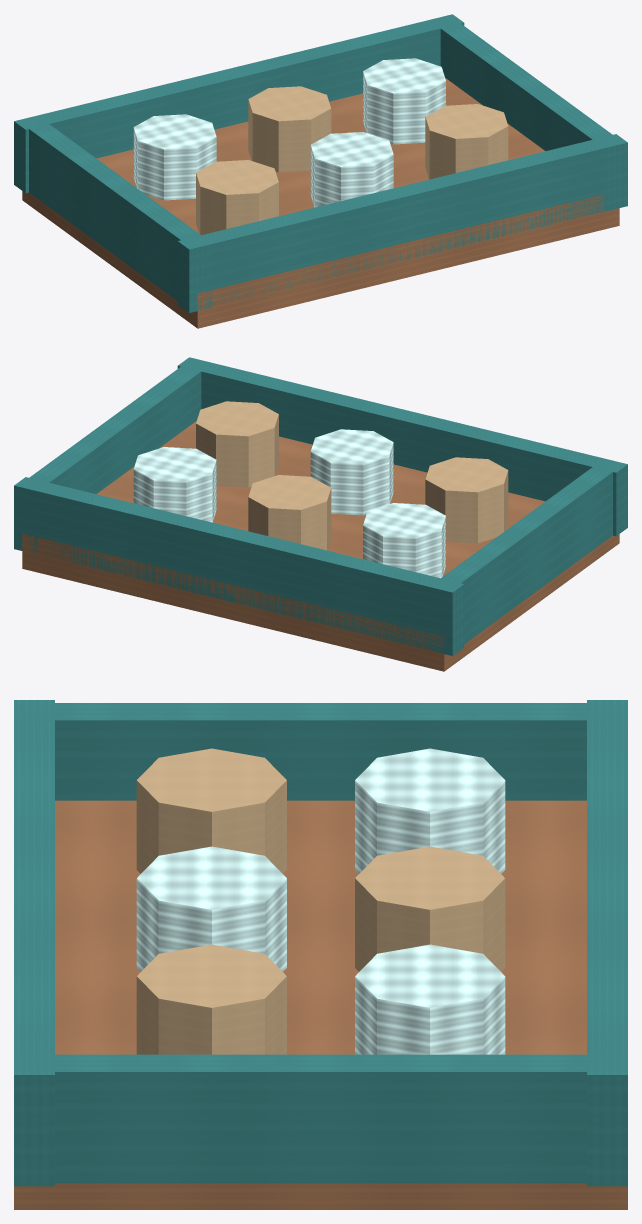
The model's file is atlas100-s091-a03.glb.
The picture shows the model from 3 angles, top to bottom: view 1: azimuth 30°, elevation 25°; view 2: azimuth 150°, elevation 25°; view 3: azimuth 270°, elevation 25°; orthographic projection. The views are drawn at different scales.
Visible parts, largest first — view 1: atlas100-s091-a03:part-002, atlas100-s091-a03:part-000, atlas100-s091-a03:part-001, atlas100-s091-a03:part-003, atlas100-s091-a03:part-004, atlas100-s091-a03:part-005, atlas100-s091-a03:part-006, atlas100-s091-a03:part-007, atlas100-s091-a03:part-009, atlas100-s091-a03:part-010, atlas100-s091-a03:part-008; view 2: atlas100-s091-a03:part-001, atlas100-s091-a03:part-000, atlas100-s091-a03:part-002, atlas100-s091-a03:part-003, atlas100-s091-a03:part-004, atlas100-s091-a03:part-008, atlas100-s091-a03:part-009, atlas100-s091-a03:part-010, atlas100-s091-a03:part-006, atlas100-s091-a03:part-007, atlas100-s091-a03:part-005; view 3: atlas100-s091-a03:part-000, atlas100-s091-a03:part-004, atlas100-s091-a03:part-003, atlas100-s091-a03:part-001, atlas100-s091-a03:part-002, atlas100-s091-a03:part-007, atlas100-s091-a03:part-010, atlas100-s091-a03:part-006, atlas100-s091-a03:part-009, atlas100-s091-a03:part-005, atlas100-s091-a03:part-008.
Boxes of the visible parts, x1,y1,x2,y2 form: atlas100-s091-a03:part-002: (177,134,627,312); atlas100-s091-a03:part-000: (22,78,619,328); atlas100-s091-a03:part-001: (14,14,464,193); atlas100-s091-a03:part-003: (29,124,212,311); atlas100-s091-a03:part-004: (430,15,624,211); atlas100-s091-a03:part-005: (133,114,216,200); atlas100-s091-a03:part-006: (248,86,331,172); atlas100-s091-a03:part-007: (363,58,445,144); atlas100-s091-a03:part-009: (310,132,393,207); atlas100-s091-a03:part-010: (425,104,508,179); atlas100-s091-a03:part-008: (196,160,278,235); atlas100-s091-a03:part-001: (14,477,464,655); atlas100-s091-a03:part-000: (22,421,619,671); atlas100-s091-a03:part-002: (177,357,627,536); atlas100-s091-a03:part-003: (429,467,612,654); atlas100-s091-a03:part-004: (17,358,211,554); atlas100-s091-a03:part-008: (425,457,508,543); atlas100-s091-a03:part-009: (310,429,393,515); atlas100-s091-a03:part-010: (196,401,278,487); atlas100-s091-a03:part-006: (248,475,331,550); atlas100-s091-a03:part-007: (133,447,216,522); atlas100-s091-a03:part-005: (363,503,445,578); atlas100-s091-a03:part-000: (14,800,627,1209); atlas100-s091-a03:part-004: (14,1054,627,1183); atlas100-s091-a03:part-003: (14,703,627,800); atlas100-s091-a03:part-001: (587,700,627,1186); atlas100-s091-a03:part-002: (14,700,54,1186); atlas100-s091-a03:part-007: (355,944,505,1054); atlas100-s091-a03:part-010: (136,944,286,1054); atlas100-s091-a03:part-006: (355,846,505,971); atlas100-s091-a03:part-009: (136,846,286,971); atlas100-s091-a03:part-005: (355,748,505,873); atlas100-s091-a03:part-008: (136,748,286,873).
Size of the model in its own units: 1.36 by 0.2563 by 0.9414.
4 materials, 4 textured.
